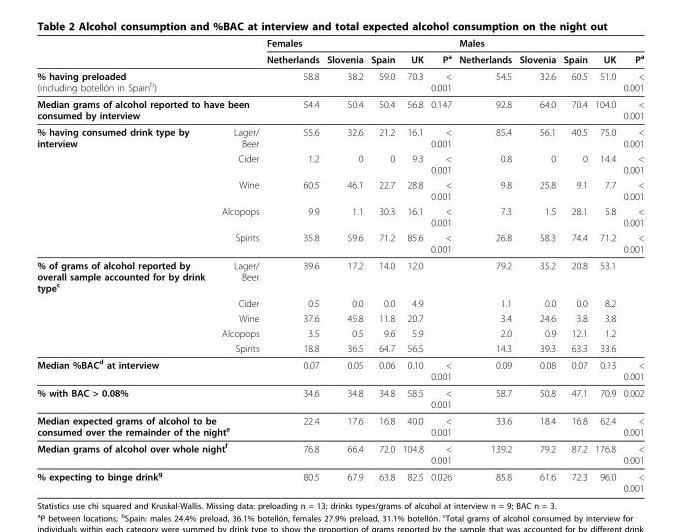table: (36, 36, 643, 493)
table column: (36, 36, 212, 493), (262, 36, 322, 493), (454, 36, 514, 493), (212, 36, 262, 493), (322, 36, 366, 493), (514, 36, 558, 493), (366, 36, 398, 493), (558, 36, 590, 493), (398, 36, 426, 493), (426, 36, 454, 493), (590, 36, 618, 493), (618, 36, 643, 493)
table column header: (36, 36, 643, 67)
table row: (36, 256, 643, 295), (36, 355, 643, 384), (36, 67, 643, 95), (36, 95, 643, 123), (36, 384, 643, 412), (36, 439, 643, 467), (36, 123, 643, 150), (36, 176, 643, 203), (36, 229, 643, 256), (36, 412, 643, 439), (36, 150, 643, 176), (36, 203, 643, 229), (36, 467, 643, 493), (36, 50, 643, 67), (36, 295, 643, 310), (36, 310, 643, 325), (36, 325, 643, 340), (36, 340, 643, 355), (36, 36, 643, 50)
table spanning cell: (36, 123, 212, 256), (36, 256, 212, 355), (36, 355, 262, 384), (36, 67, 262, 95), (36, 95, 262, 123), (36, 384, 262, 412), (36, 439, 262, 467), (36, 412, 262, 439), (36, 467, 262, 493), (262, 36, 454, 50), (454, 36, 643, 50)
